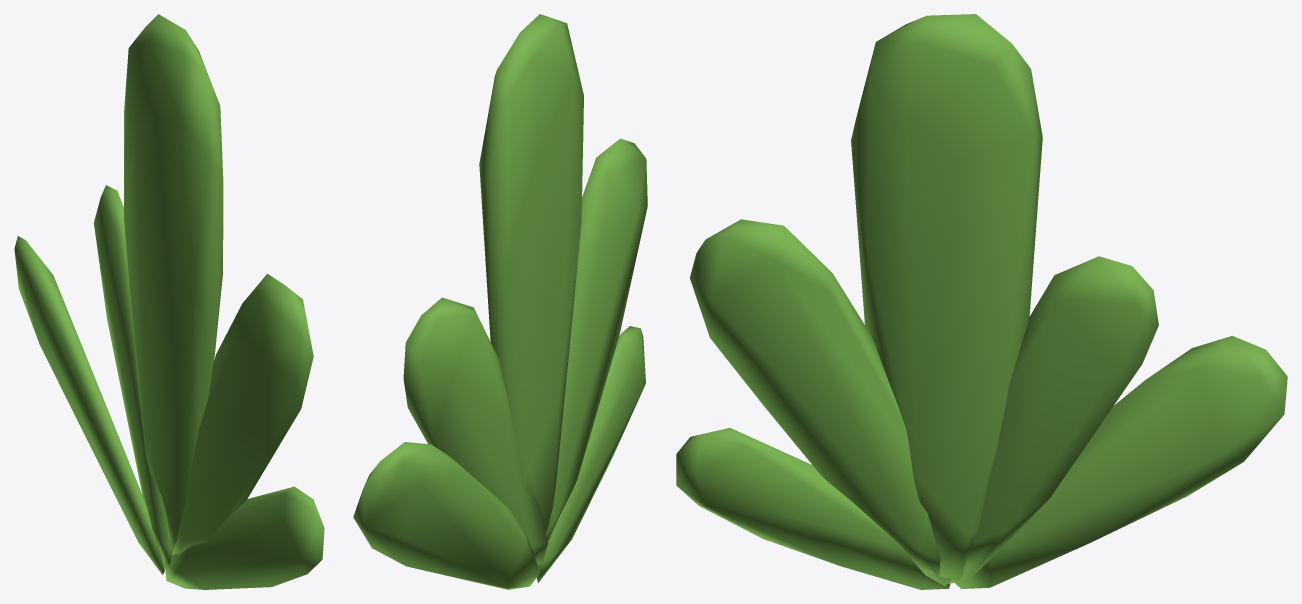
The model's file is Plant_2.fbx.
3 renders of one model, left to right at view 1: azimuth 30°, elevation 25°; view 2: azimuth 150°, elevation 25°; view 3: azimuth 270°, elevation 25°, orthographic. The views are drawn at different scales.
Parts seen in each view (by area): view 1: Plant_2; view 2: Plant_2; view 3: Plant_2.
Boxes of the visible parts, box(x1,y1,x2,y2) form: Plant_2: box(14, 14, 324, 589); Plant_2: box(353, 14, 647, 589); Plant_2: box(676, 14, 1287, 589).
Size of the model in its own units: 13.63 by 134 by 129.
